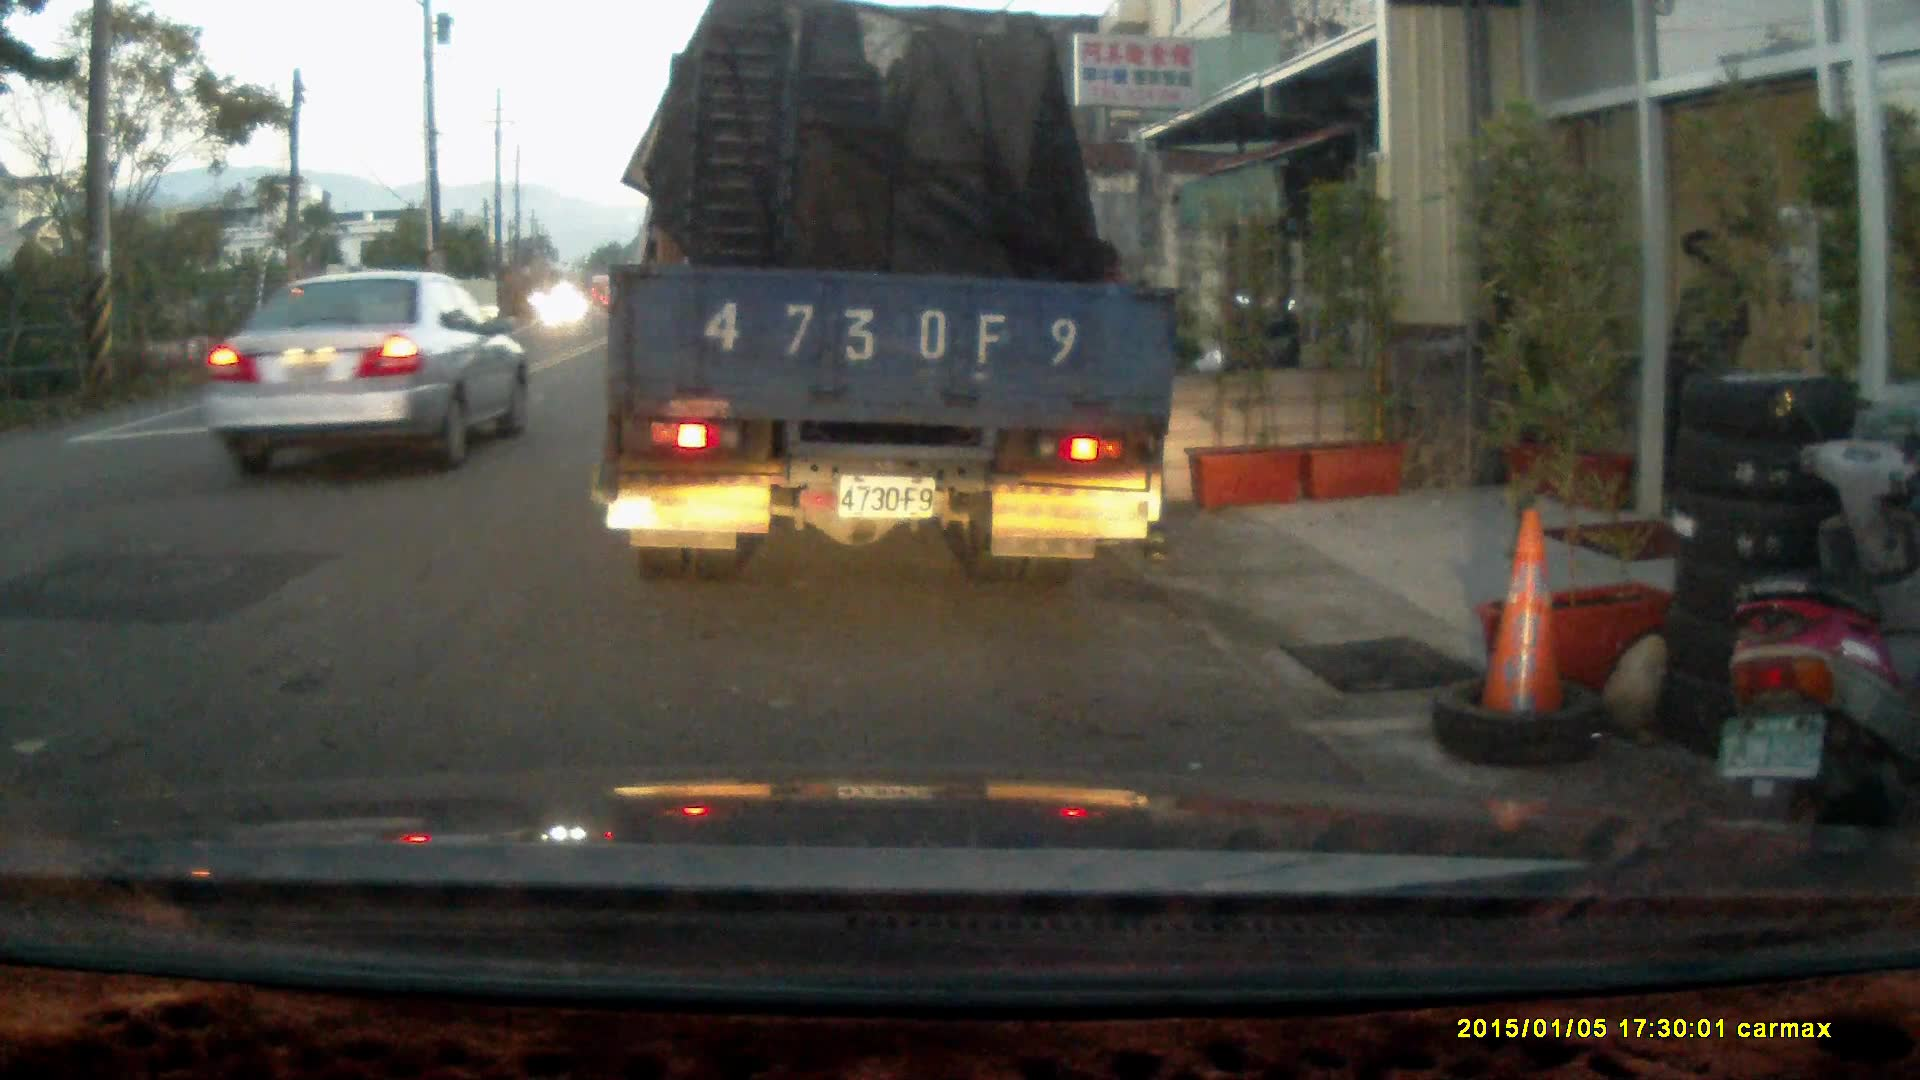pedestrian: (1666, 226, 1754, 476)
vehicle: (605, 23, 1188, 572), (206, 269, 534, 467)
